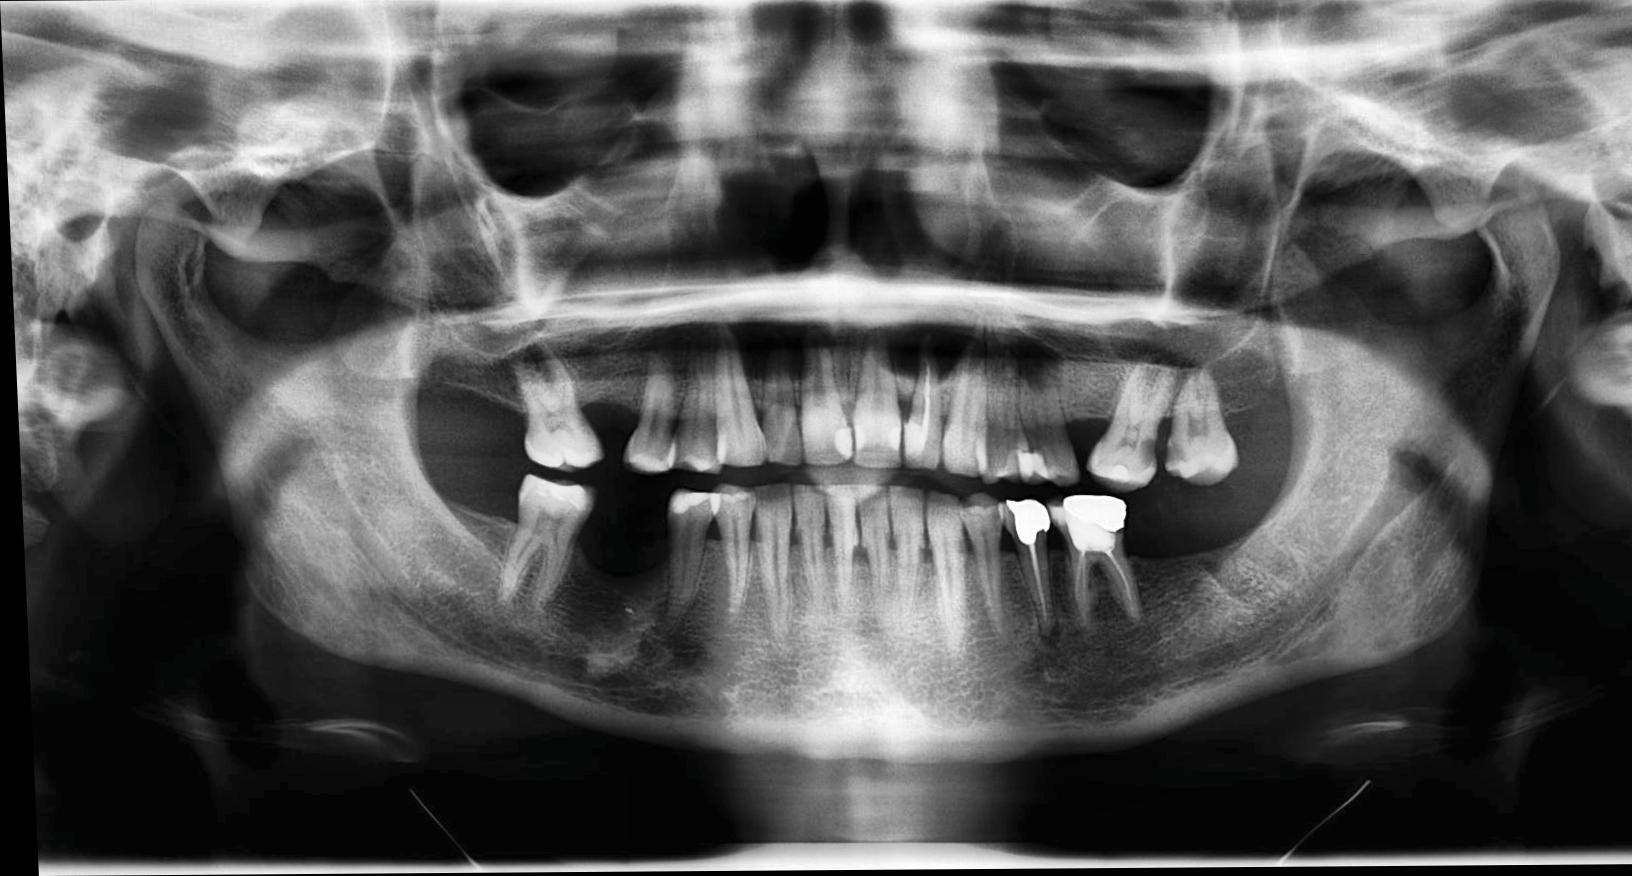radikuler: (862, 305, 991, 386)
